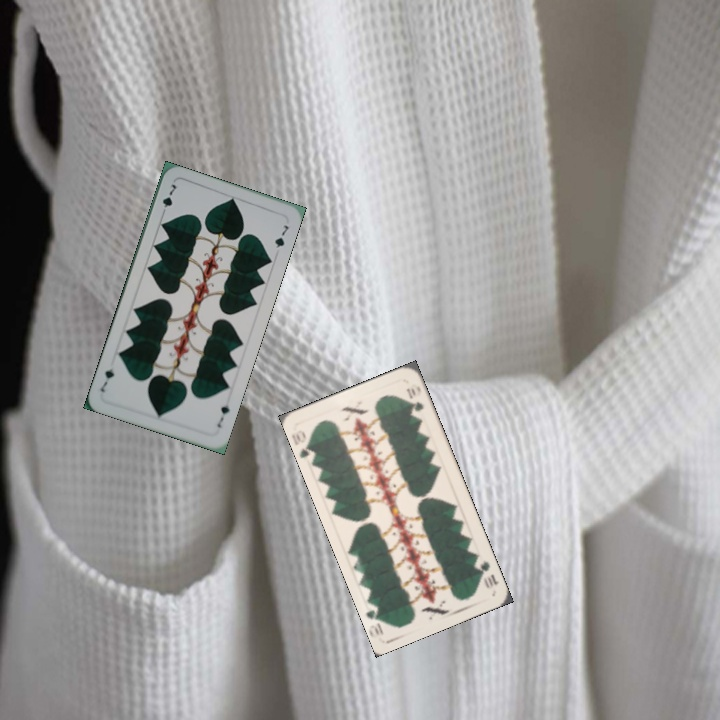G10: (471, 555, 501, 591), (292, 425, 318, 462)
G7: (158, 180, 181, 219), (213, 396, 232, 430)
